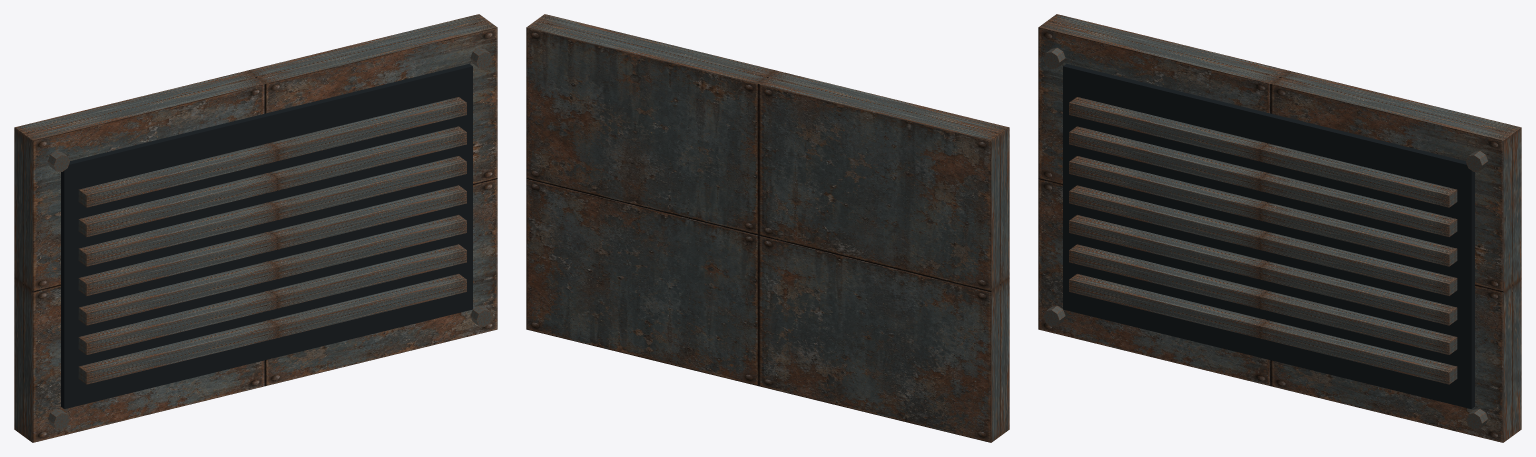
The model's file is VentilationPanel.obj.
3 renders of one model, left to right at view 1: azimuth 30°, elevation 25°; view 2: azimuth 150°, elevation 25°; view 3: azimuth 330°, elevation 25°, orthographic.
Visible parts, largest first — view 1: VentilationPanel; view 2: VentilationPanel; view 3: VentilationPanel.
Boxes of the visible parts, <box> form: VentilationPanel: <box>14,14,497,442</box>; VentilationPanel: <box>526,14,1009,442</box>; VentilationPanel: <box>1038,14,1521,442</box>.
Bounding box in the file's own units: 1.32 × 0.82 × 0.1475.
3 materials, 2 textured.
